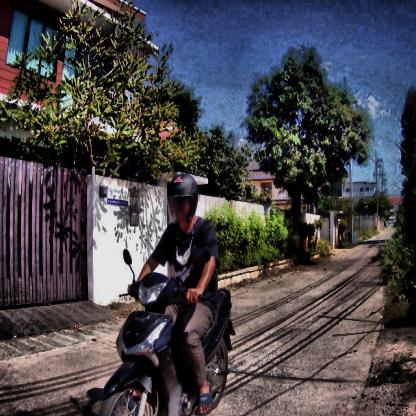wear: (167, 171, 200, 229)
